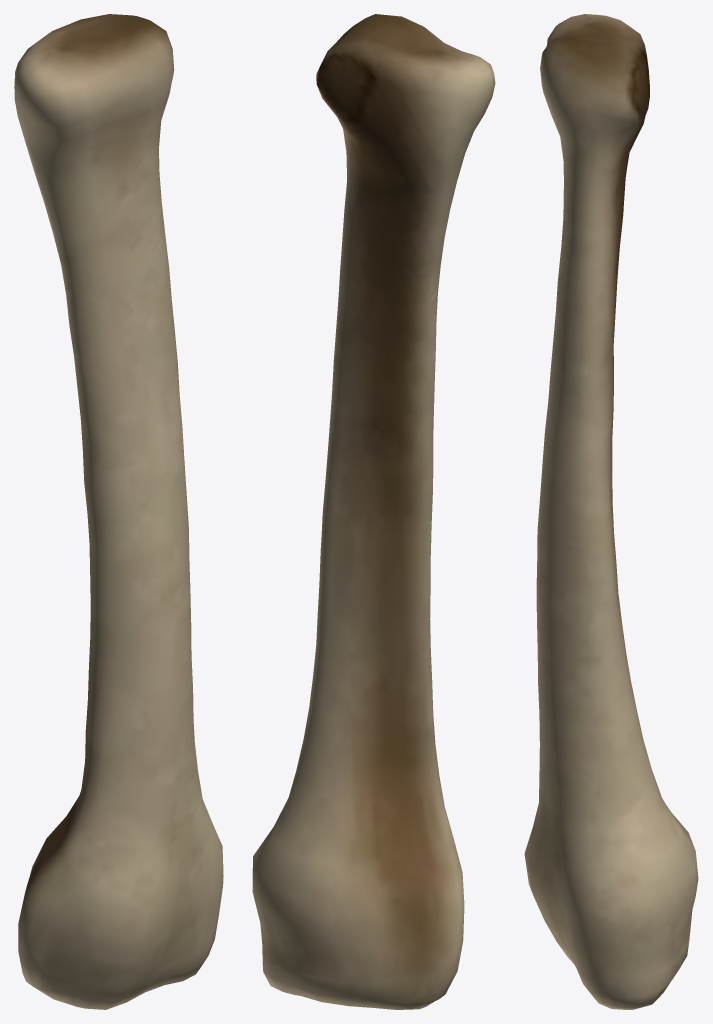
The model's file is Radius.glb.
3 views of the same model, side by side, from view 1: azimuth 30°, elevation 25°; view 2: azimuth 150°, elevation 25°; view 3: azimuth 270°, elevation 25° (orthographic). The views are drawn at different scales.
Visible parts, largest first — view 1: polySurface4; view 2: polySurface4; view 3: polySurface4.
Boxes of the visible parts, <box> form: polySurface4: <box>14,14,223,1009</box>; polySurface4: <box>252,14,495,1009</box>; polySurface4: <box>524,14,698,1009</box>.
Size of the model in its own units: 25.38 by 111 by 18.72.
1 material, 1 textured.
